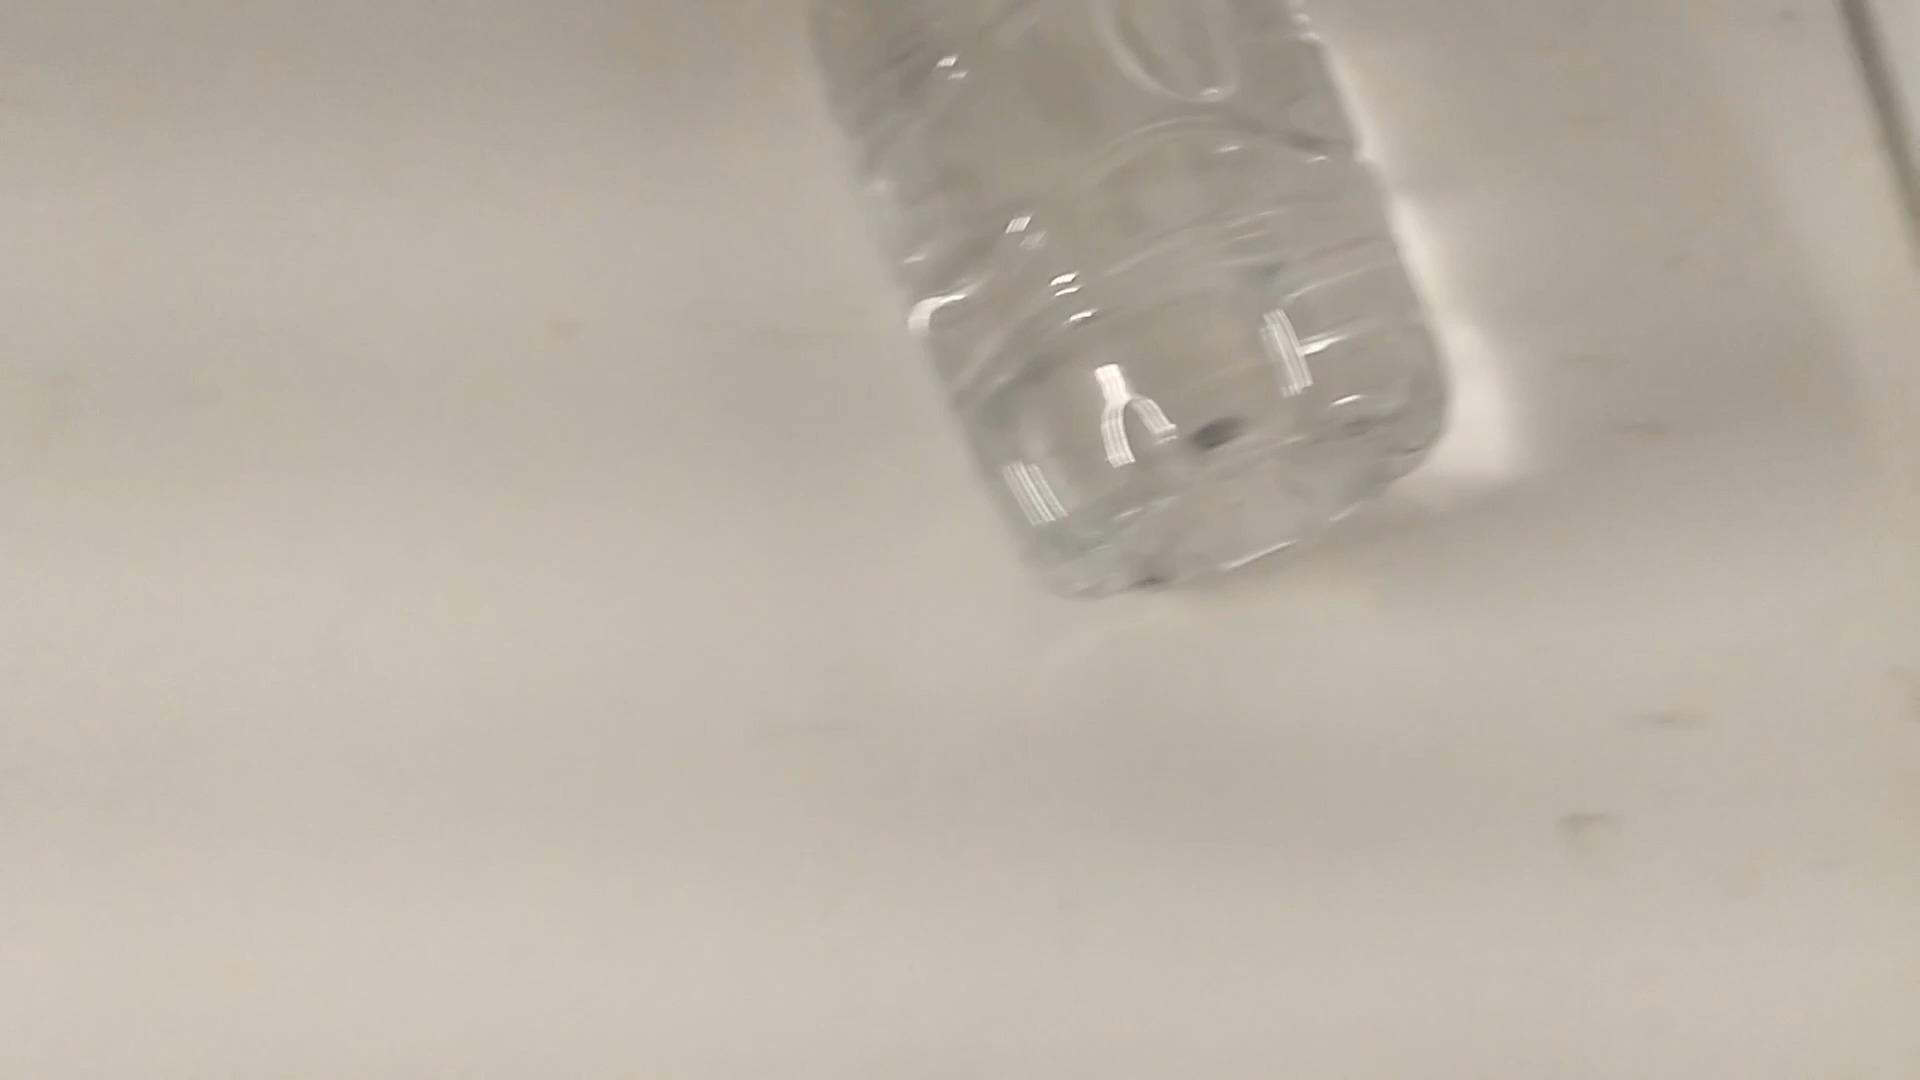agua: (787, 3, 1458, 611)
